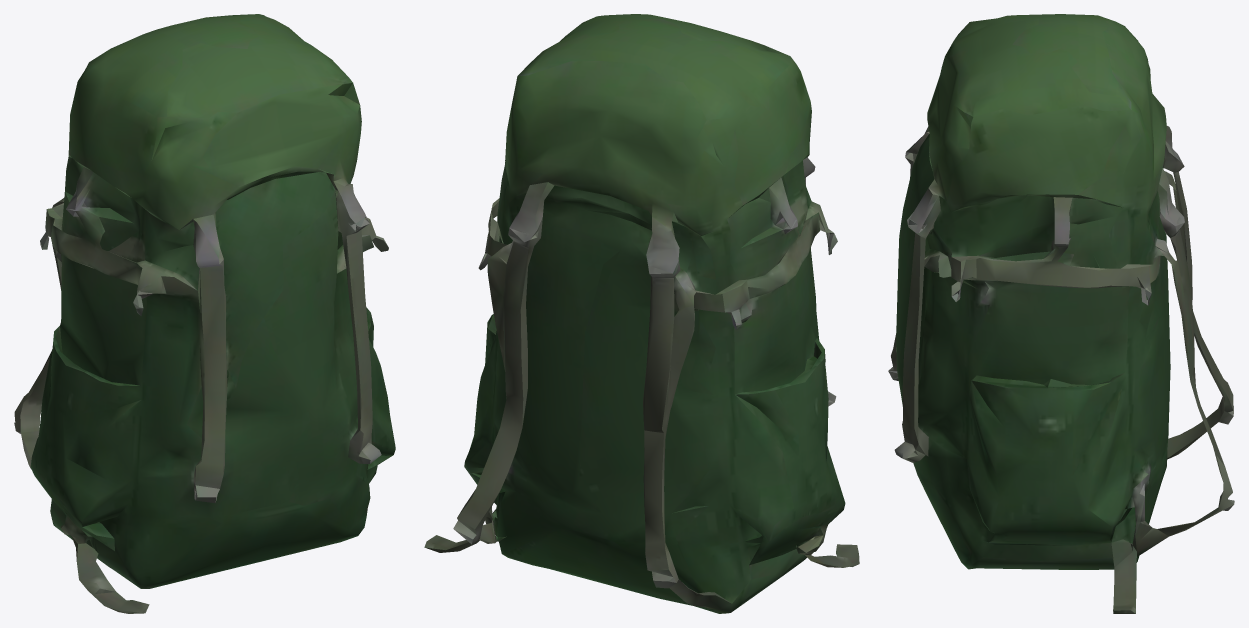
Rendered from backpack.glb.
3 views of the same model, side by side, from view 1: azimuth 30°, elevation 25°; view 2: azimuth 150°, elevation 25°; view 3: azimuth 270°, elevation 25° (orthographic). The views are drawn at different scales.
Parts seen in each view (by area): view 1: backpack; view 2: backpack; view 3: backpack.
Part boxes in pixels (<box>): backpack: <box>14,14,395,613</box>; backpack: <box>424,14,859,613</box>; backpack: <box>888,14,1234,613</box>.
Bounding box in the file's own units: 0.4509 × 0.65 × 0.4087.
1 material, 1 textured.
